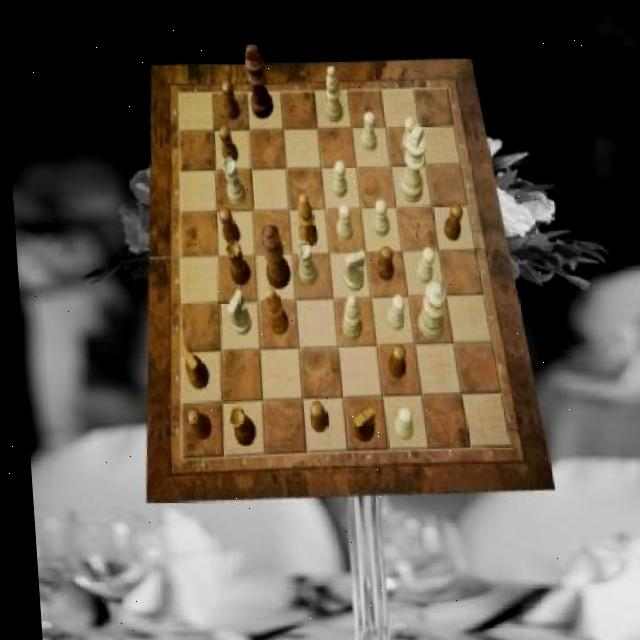bishop: (294, 192, 316, 247), (261, 289, 286, 335)
black-bishop: (244, 43, 274, 119)
black-king: (176, 345, 206, 387), (346, 406, 370, 440)
black-knight: (181, 408, 207, 441), (439, 202, 461, 240), (217, 207, 239, 243), (221, 81, 240, 121), (217, 126, 237, 163), (383, 343, 402, 378), (373, 244, 391, 280), (304, 400, 323, 433)
black-pawn: (258, 223, 289, 288)
black-queen: (223, 241, 249, 285), (224, 407, 251, 447)
black-rook: (322, 65, 342, 123), (337, 294, 359, 340)
white-bishop: (394, 123, 428, 202)
white-king: (223, 289, 248, 334), (339, 249, 364, 291)
white-knight: (411, 246, 433, 284), (358, 110, 376, 150), (383, 294, 402, 330), (332, 202, 350, 240), (328, 159, 346, 197), (388, 406, 408, 440), (400, 115, 417, 154), (369, 200, 387, 236)
white-pawn: (411, 278, 445, 340)
white-queen: (220, 156, 245, 204), (294, 240, 315, 284)
